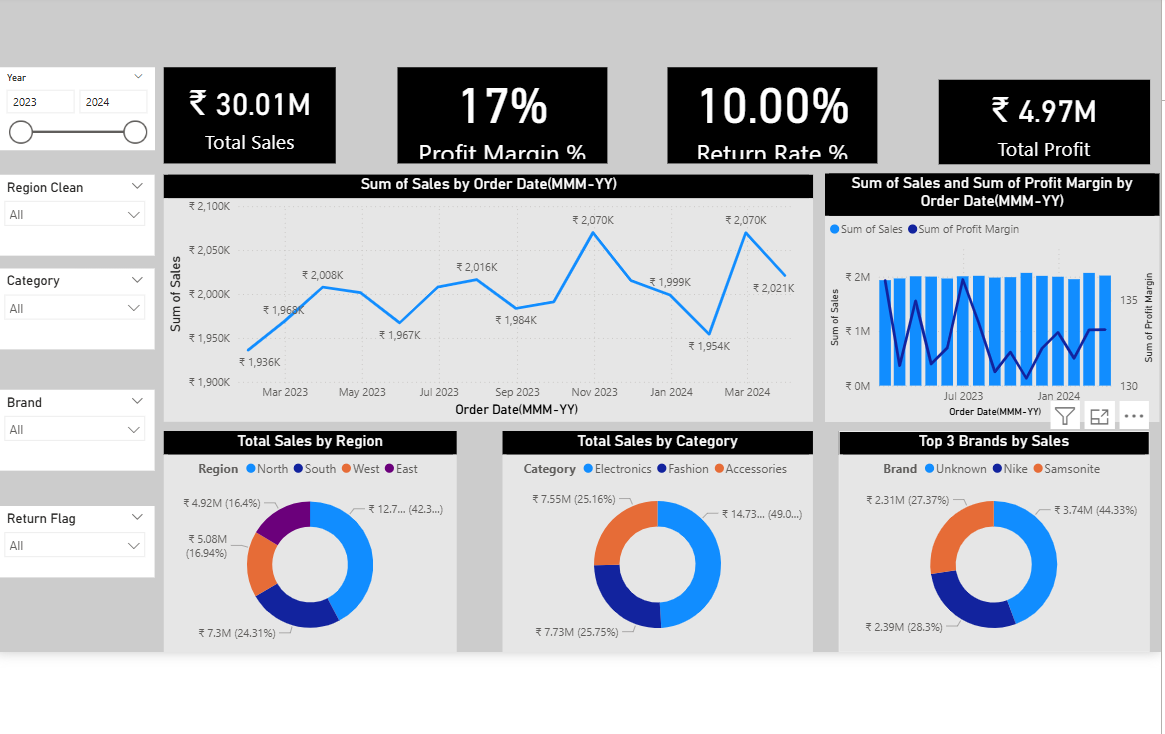

The dashboard page shown, as its layout file describes it:
{"tool":"powerbi","page":{"name":"Page 2","canvas":[1280,720],"ordinal":1},"visuals":[{"type":"card","fields":{"Values":["MeasuresTable.Total Sales"]},"box":[185.3,78.5,189.2,105.5],"z":0},{"type":"card","fields":{"Values":["MeasuresTable.Return Rate %"]},"box":[738.6,78.5,230.3,105.5],"z":1000},{"type":"card","fields":{"Values":["MeasuresTable.Total Orders"]},"box":[979.1,223.2,278.1,150.1],"z":2000},{"type":"card","fields":{"Values":["MeasuresTable.Total Profit"]},"box":[1035.9,91.4,231.6,92.7],"z":3000},{"type":"lineChart","fields":{"Y":["Sum(Sales_All.Sales)"],"Category":["Sales_All.Order Date(MMM-YY)"]},"box":[185.3,195.7,713.1,271.3],"z":4000},{"type":"lineStackedColumnComboChart","fields":{"Y":["Sum(Sales_All.Sales)"],"Y2":["Sum(Sales_All.Profit Margin)"],"Category":["Sales_All.Order Date(MMM-YY)"]},"box":[911.2,194.5,366.8,272.8],"z":5000},{"type":"card","fields":{"Values":["MeasuresTable.Profit Margin %"]},"box":[441.4,78.5,230.3,105.5],"z":6000},{"type":"donutChart","fields":{"Y":["MeasuresTable.Total Sales"],"Category":["Sales_All.Region Clean"]},"box":[185.3,477.4,321.7,243.1],"z":7000},{"type":"donutChart","fields":{"Y":["MeasuresTable.Total Sales"],"Category":["Sales_All.Category"]},"box":[557.4,477.8,340.7,242.8],"z":8000},{"type":"donutChart","title":"Top 3 Brands by Sales","fields":{"Y":["MeasuresTable.Total Sales"],"Category":["Sales_All.Brand"]},"box":[926.9,477.8,340.7,242.8],"z":9000},{"type":"slicer","fields":{"Values":["Sales_All.Order Date.Variation.Date Hierarchy.Year"]},"box":[0,78.5,175,90.1],"z":10000},{"type":"slicer","fields":{"Values":["Sales_All.Region Clean"]},"box":[0,195.6,175,88.8],"z":11000},{"type":"slicer","fields":{"Values":["Sales_All.Category"]},"box":[0,298.5,175,88.8],"z":12000},{"type":"slicer","fields":{"Values":["Sales_All.Brand"]},"box":[0,432.4,175,88.8],"z":13000},{"type":"slicer","fields":{"Values":["Sales_All.Return Flag"]},"box":[0,559.8,175,78.5],"z":14000}]}

Visuals, with their boxes on the page's 1280x720 design canvas (x1, y1, x2, y2). These are canvas units, not pixel positions in the 1165x734 screenshot, which may show the page scaled, cropped or inside an application window:
card - MeasuresTable.Total Sales: crop(185, 78, 374, 184)
card - MeasuresTable.Return Rate %: crop(739, 78, 969, 184)
card - MeasuresTable.Total Orders: crop(979, 223, 1257, 373)
card - MeasuresTable.Total Profit: crop(1036, 91, 1268, 184)
lineChart - Sum(Sales_All.Sales) x Sales_All.Order Date(MMM-YY): crop(185, 196, 898, 467)
lineStackedColumnComboChart - Sum(Sales_All.Sales) x Sum(Sales_All.Profit Margin): crop(911, 194, 1278, 467)
card - MeasuresTable.Profit Margin %: crop(441, 78, 672, 184)
donutChart - MeasuresTable.Total Sales x Sales_All.Region Clean: crop(185, 477, 507, 720)
donutChart - MeasuresTable.Total Sales x Sales_All.Category: crop(557, 478, 898, 721)
"Top 3 Brands by Sales" donutChart: crop(927, 478, 1268, 721)
slicer - Sales_All.Order Date.Variation.Date Hierarchy.Year: crop(0, 78, 175, 169)
slicer - Sales_All.Region Clean: crop(0, 196, 175, 284)
slicer - Sales_All.Category: crop(0, 298, 175, 387)
slicer - Sales_All.Brand: crop(0, 432, 175, 521)
slicer - Sales_All.Return Flag: crop(0, 560, 175, 638)
